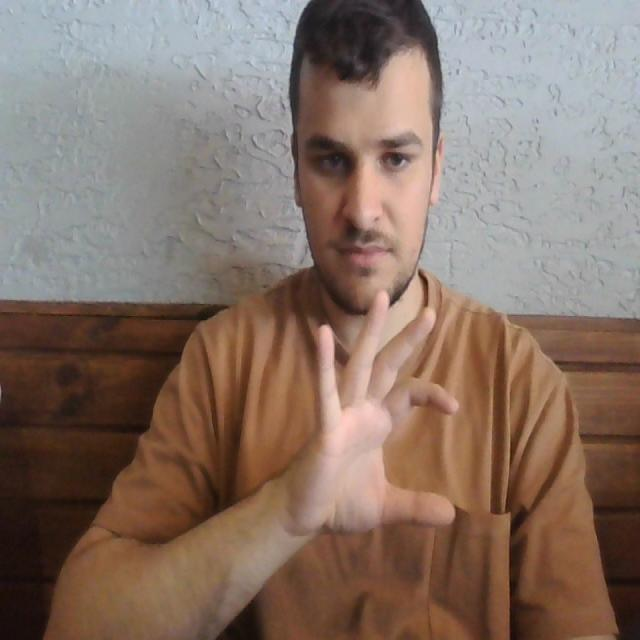Tuvalet: (310, 266, 462, 554)
